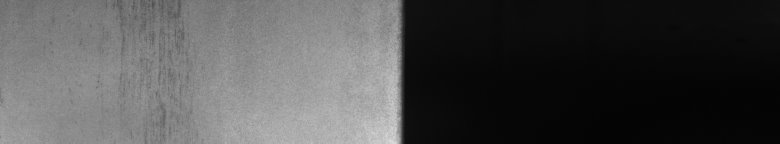ka: (112, 4, 188, 127)
